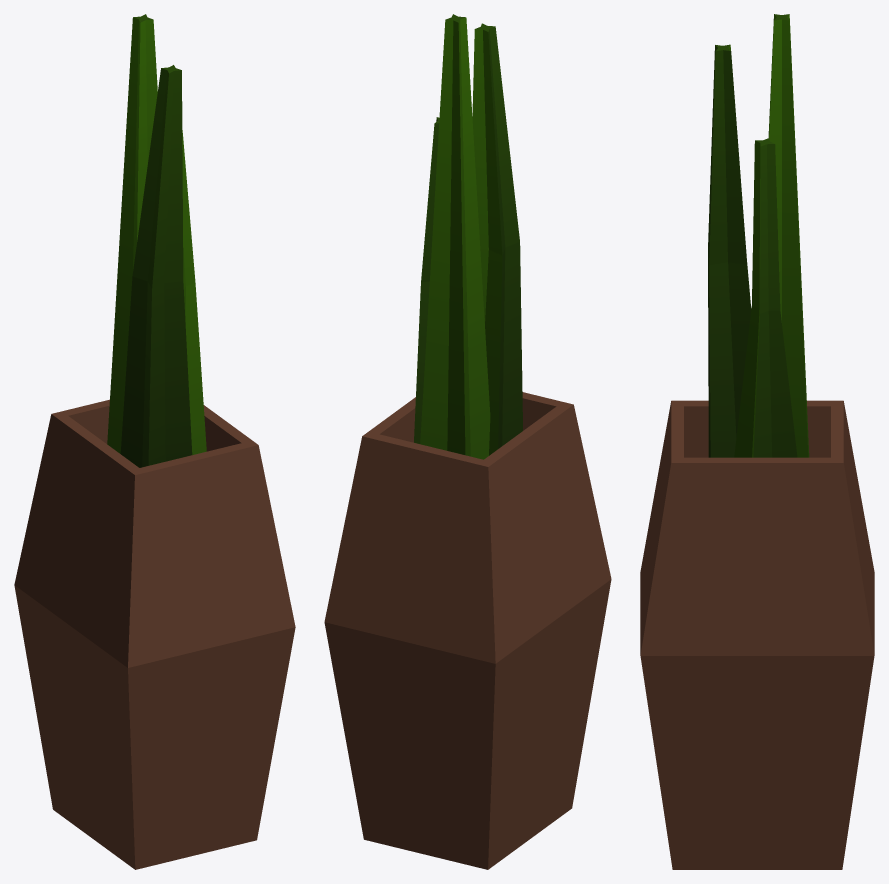
The model's file is PlantV2.fbx.
3 renders of one model, left to right at view 1: azimuth 30°, elevation 25°; view 2: azimuth 150°, elevation 25°; view 3: azimuth 270°, elevation 25°, orthographic. The views are drawn at different scales.
Parts seen in each view (by area): view 1: PlantV2; view 2: PlantV2; view 3: PlantV2.
Part boxes in pixels (x1=…): PlantV2: x1=14, y1=14, x2=295, y2=869; PlantV2: x1=324, y1=14, x2=611, y2=869; PlantV2: x1=640, y1=14, x2=874, y2=869.
Bounding box in the file's own units: 6.62 × 30.09 × 7.76.
